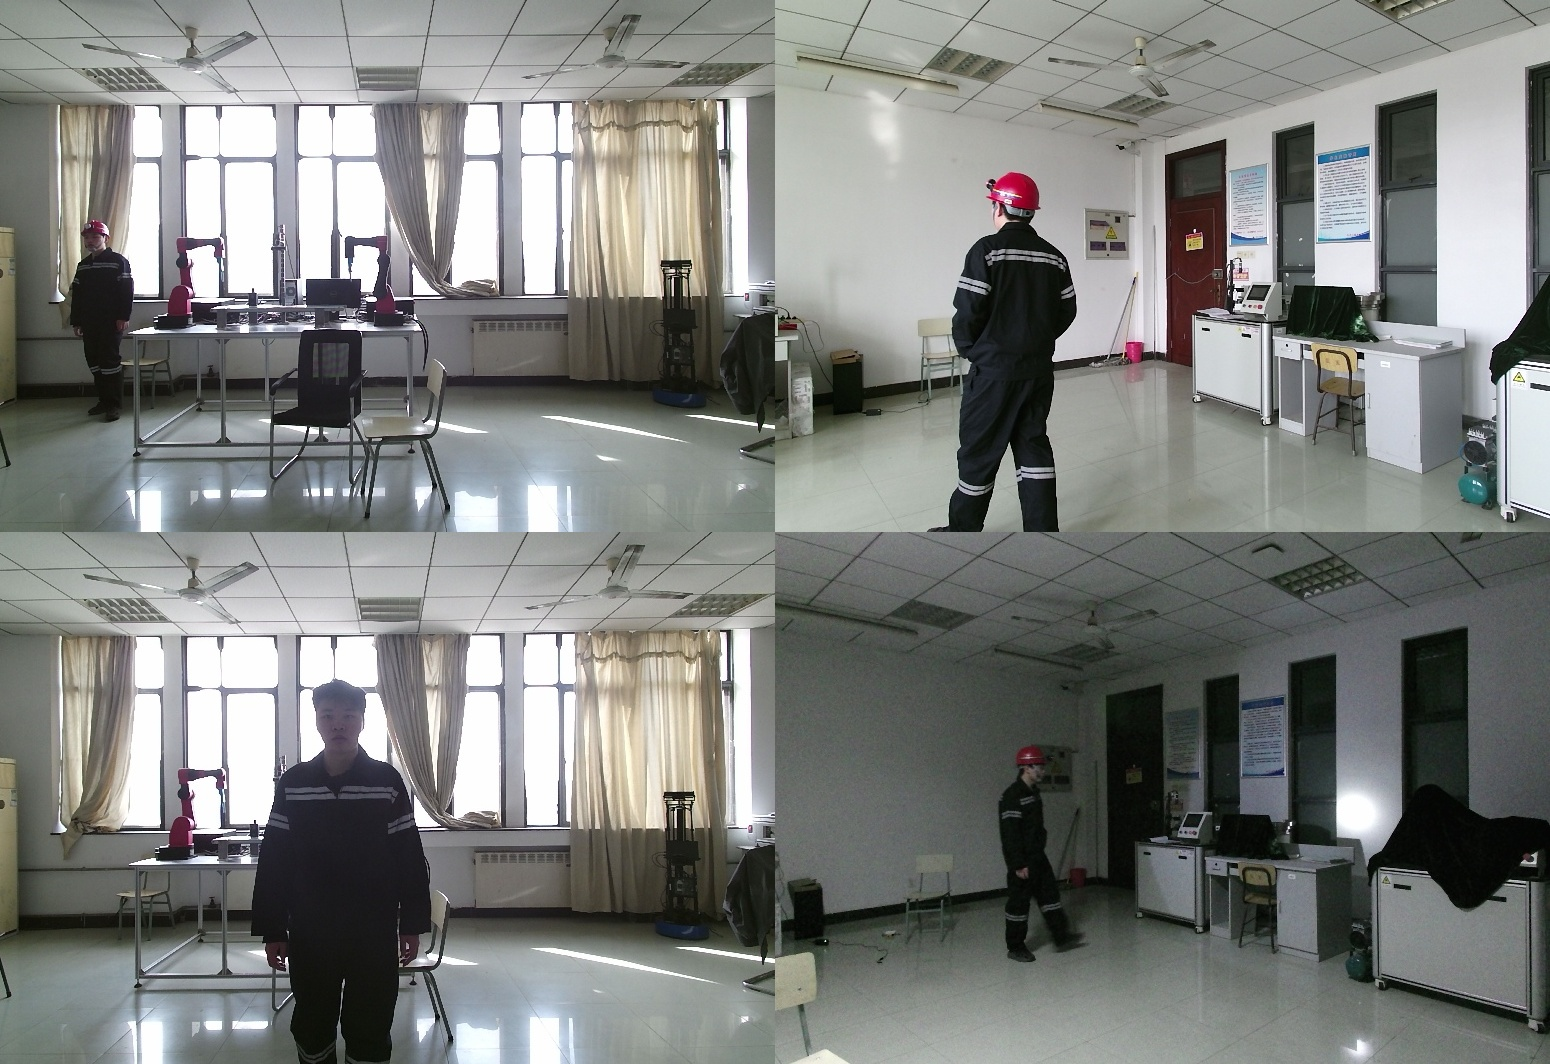person: (255, 681, 442, 1064), (927, 172, 1094, 532), (995, 747, 1087, 974), (59, 222, 133, 422)
